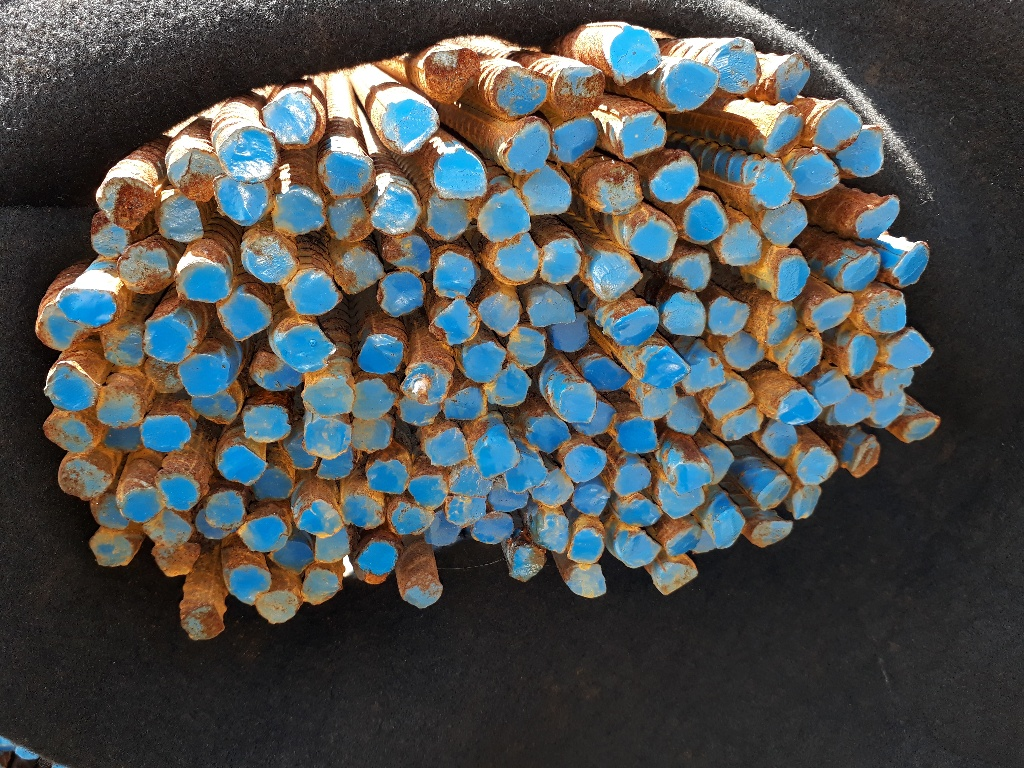dipstick: (381, 99, 439, 154), (218, 129, 278, 182), (260, 90, 315, 147), (97, 178, 158, 229), (274, 325, 336, 375), (214, 173, 269, 226), (316, 151, 376, 199), (591, 162, 643, 216), (423, 49, 480, 98), (433, 148, 487, 199), (218, 291, 273, 341), (117, 243, 172, 293), (478, 191, 531, 242), (715, 36, 760, 95), (665, 61, 717, 112), (169, 151, 221, 202), (610, 26, 660, 79), (489, 234, 540, 285), (520, 167, 573, 216), (495, 67, 548, 116), (284, 270, 343, 314), (838, 123, 887, 175), (500, 440, 547, 494), (555, 67, 606, 116), (33, 304, 86, 351), (592, 252, 642, 301), (143, 316, 193, 365), (243, 235, 294, 283), (682, 341, 726, 395), (620, 112, 667, 162), (762, 199, 809, 248), (155, 194, 204, 241), (816, 100, 862, 150), (56, 287, 116, 325), (376, 271, 424, 318), (426, 190, 472, 239), (539, 236, 584, 286), (325, 195, 372, 242), (429, 299, 477, 345), (336, 247, 382, 295), (650, 159, 699, 204), (507, 122, 550, 173), (855, 192, 901, 239), (372, 186, 417, 234), (528, 286, 577, 330), (178, 260, 229, 302), (766, 106, 806, 159), (249, 350, 302, 390), (432, 253, 478, 299), (46, 366, 95, 409), (56, 460, 110, 499), (216, 444, 267, 485), (178, 351, 224, 396), (354, 333, 403, 375), (399, 365, 450, 405), (484, 364, 532, 406), (460, 340, 508, 382), (303, 419, 353, 459), (238, 513, 289, 552), (644, 346, 689, 390), (96, 385, 143, 427), (300, 379, 354, 415), (475, 435, 519, 479), (683, 196, 726, 241), (792, 153, 838, 195), (100, 326, 146, 368), (752, 162, 793, 209), (550, 119, 597, 160), (383, 235, 431, 275), (242, 405, 291, 444), (663, 293, 705, 338), (155, 472, 201, 513), (179, 603, 226, 643), (774, 54, 811, 104), (630, 220, 674, 262), (563, 443, 608, 484), (721, 221, 761, 267), (140, 415, 191, 451), (477, 295, 520, 337), (656, 481, 706, 517), (545, 313, 590, 353), (581, 357, 631, 393), (44, 417, 94, 453), (886, 328, 932, 367), (297, 497, 343, 536), (894, 239, 930, 288), (865, 288, 905, 332), (90, 212, 130, 256), (709, 380, 754, 419), (226, 566, 271, 605), (425, 428, 471, 466), (668, 251, 710, 292), (532, 467, 574, 508), (351, 379, 393, 420), (614, 304, 658, 343), (810, 292, 855, 330), (777, 388, 823, 425), (524, 416, 570, 453), (724, 329, 764, 371), (506, 325, 546, 367), (843, 247, 881, 291), (151, 543, 200, 577), (143, 510, 192, 544), (189, 391, 237, 425), (338, 495, 384, 530), (797, 445, 837, 485), (708, 296, 748, 336), (575, 396, 615, 436), (666, 394, 704, 435), (349, 416, 390, 454), (559, 381, 596, 423), (390, 502, 434, 537), (441, 387, 486, 421), (621, 530, 661, 568), (256, 590, 299, 625), (669, 461, 713, 495), (404, 572, 444, 609), (300, 569, 340, 606), (566, 563, 607, 599), (776, 255, 808, 301), (448, 464, 490, 499), (120, 487, 162, 522), (471, 511, 514, 545), (508, 544, 546, 582), (618, 417, 658, 453), (534, 513, 570, 553), (205, 489, 245, 525), (90, 533, 132, 567), (712, 508, 745, 551), (443, 493, 486, 526), (268, 541, 312, 573), (834, 388, 870, 427), (366, 459, 406, 494), (658, 562, 699, 596), (407, 474, 448, 508), (357, 540, 398, 574), (762, 420, 799, 457), (144, 356, 182, 392), (723, 406, 763, 440), (787, 338, 823, 375), (641, 383, 677, 420), (568, 529, 605, 565), (700, 445, 734, 484), (252, 466, 292, 499), (487, 481, 528, 513), (870, 391, 906, 427), (425, 509, 460, 546), (850, 436, 880, 479), (848, 334, 878, 377), (396, 395, 440, 424), (766, 304, 797, 345), (315, 447, 353, 480), (749, 520, 793, 548), (99, 424, 143, 452), (873, 362, 914, 392), (815, 371, 850, 406), (93, 495, 129, 529), (571, 485, 610, 516), (665, 525, 703, 556), (615, 464, 651, 496), (313, 531, 350, 562), (195, 508, 232, 539), (627, 495, 660, 528), (792, 484, 822, 520), (903, 415, 940, 443), (759, 479, 791, 510)
